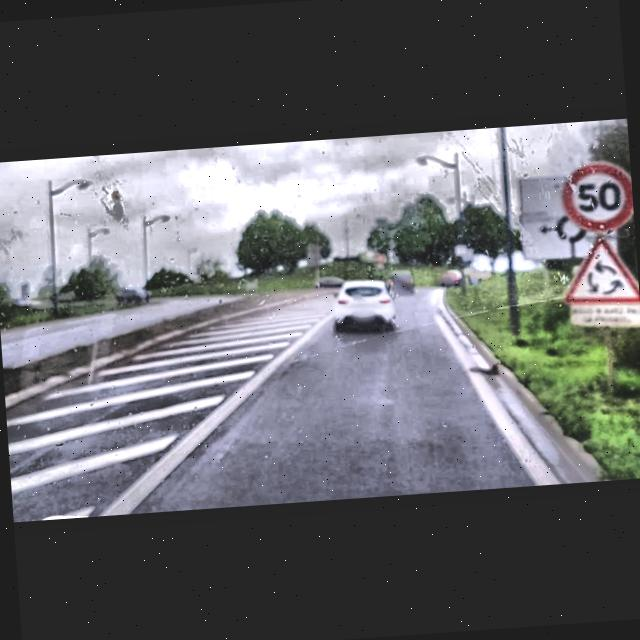speed_50: (560, 162, 634, 235)
